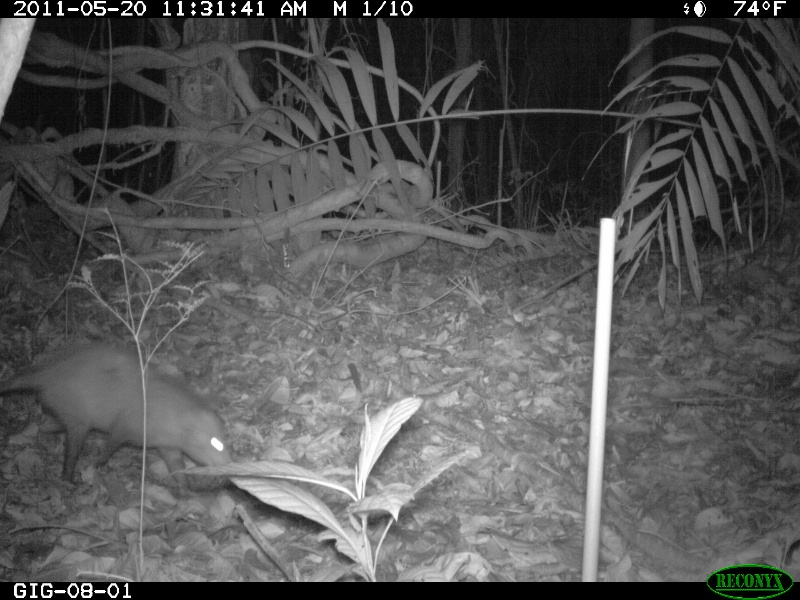opossum: (11, 341, 234, 494)
